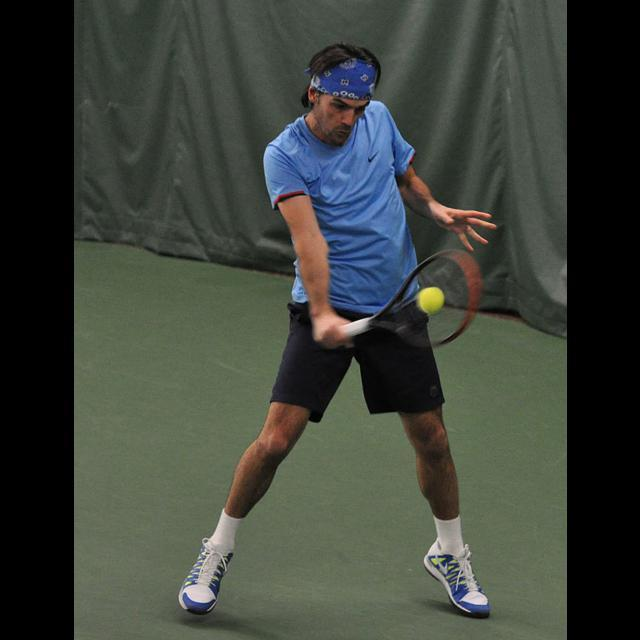tennis-ball: (414, 286, 447, 316)
